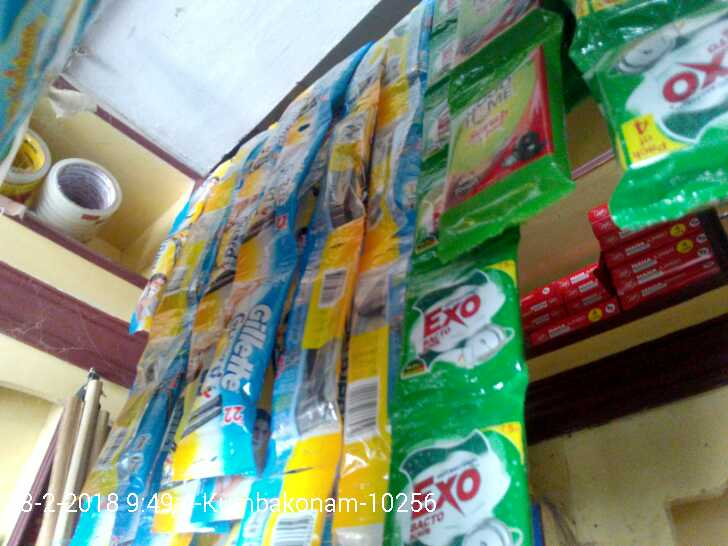gillette: (198, 275, 270, 465), (236, 134, 311, 268), (87, 382, 156, 489)
